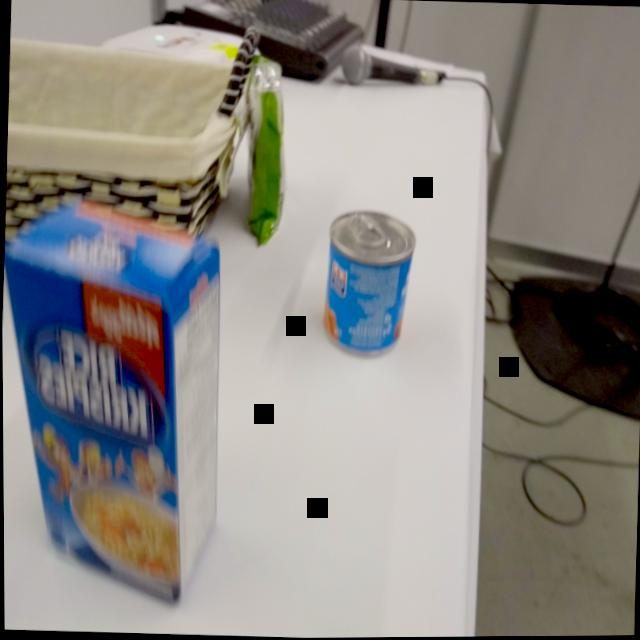cereal: (1, 188, 234, 614)
noodles: (237, 49, 298, 252)
sausages: (315, 206, 419, 365)
